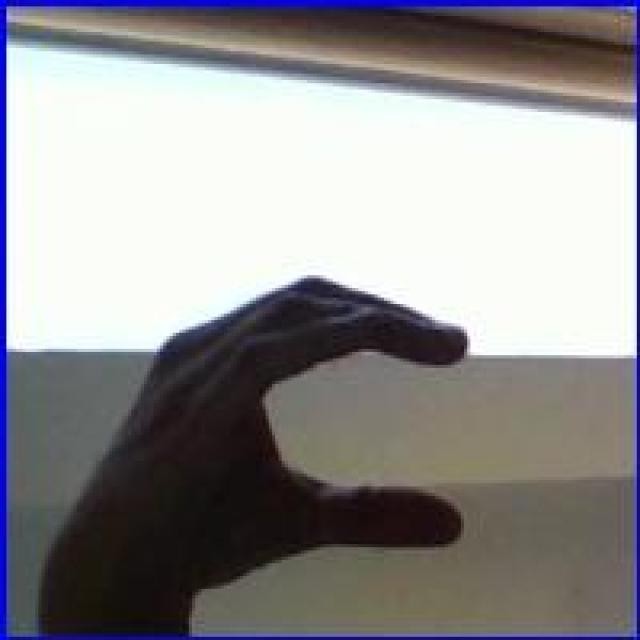C: (80, 274, 477, 596)
